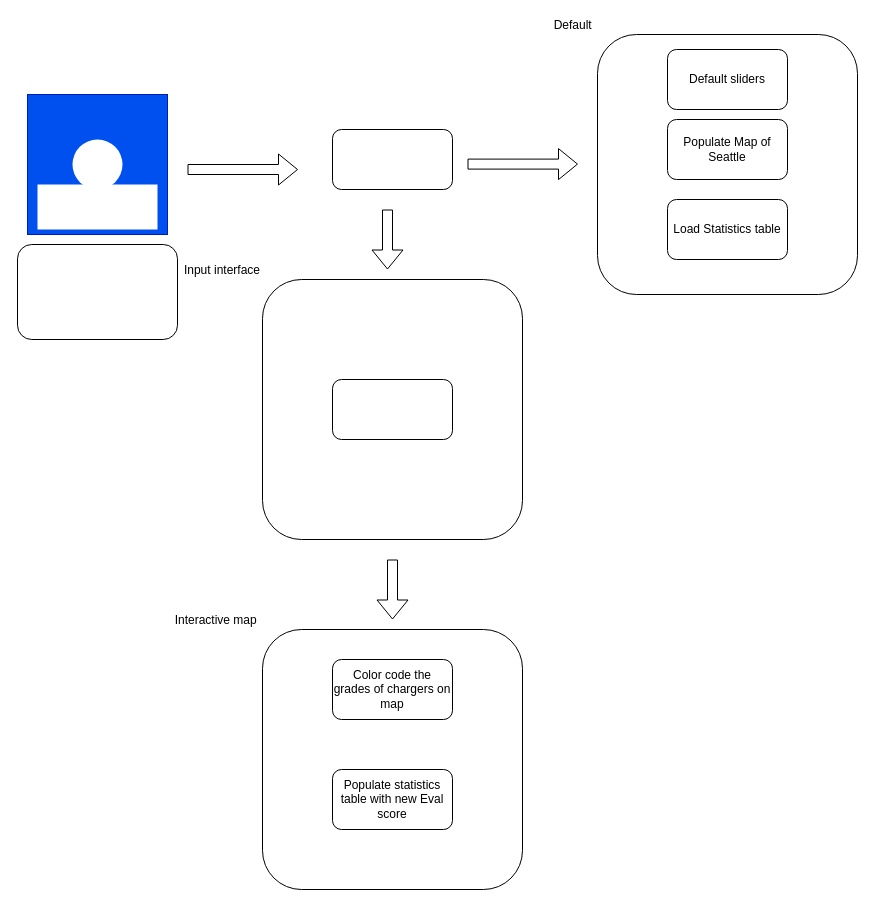
The diagram is 875 pixels wide and 907 high, and some of its shapes have lost their labels. The shapes that lost their labels are listed below. From the top down, each one's centre as x and y in pixels, then its label:
the point at 392,159: Evaluation Tab
the point at 97,292: User would like to evaluate current Seattle Charging Stations on custom weights.
the point at 392,409: Slider/weight input
